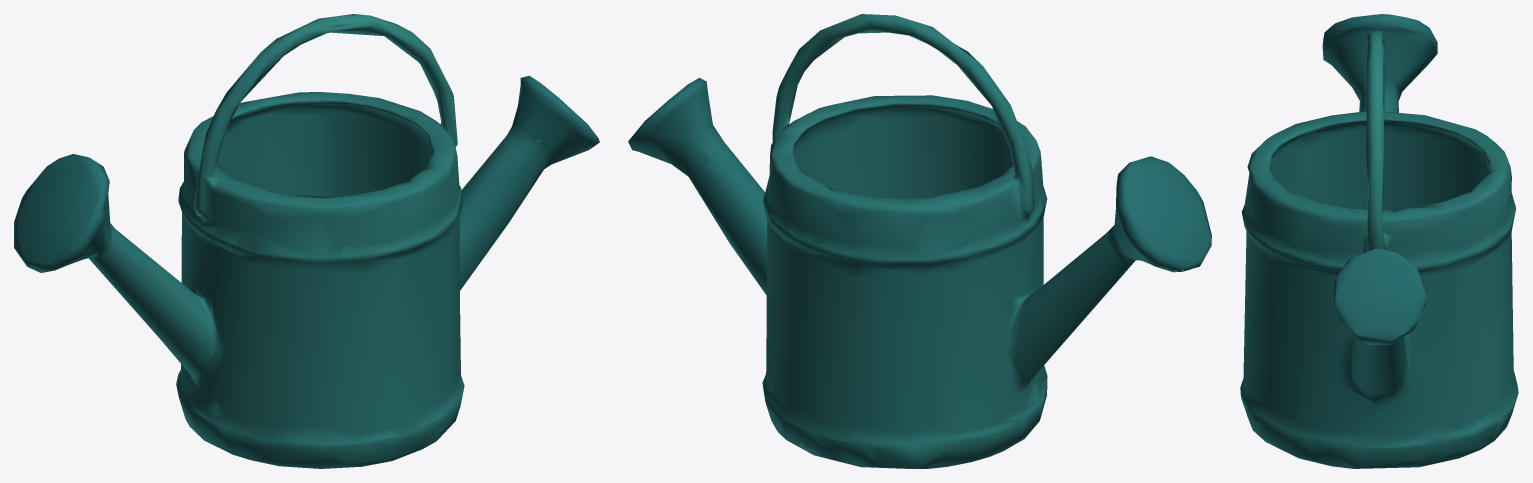
File: gen3d-watering-can-lod0.glb
3 renders of one model, left to right at view 1: azimuth 30°, elevation 25°; view 2: azimuth 150°, elevation 25°; view 3: azimuth 270°, elevation 25°, orthographic. The views are drawn at different scales.
Parts seen in each view (by area): view 1: part_0; view 2: part_0; view 3: part_0.
Boxes of the visible parts, <box> form: part_0: <box>14,14,599,468</box>; part_0: <box>628,14,1211,468</box>; part_0: <box>1240,14,1518,468</box>.
Size of the model in its own units: 1.5 by 0.9993 by 0.67.
